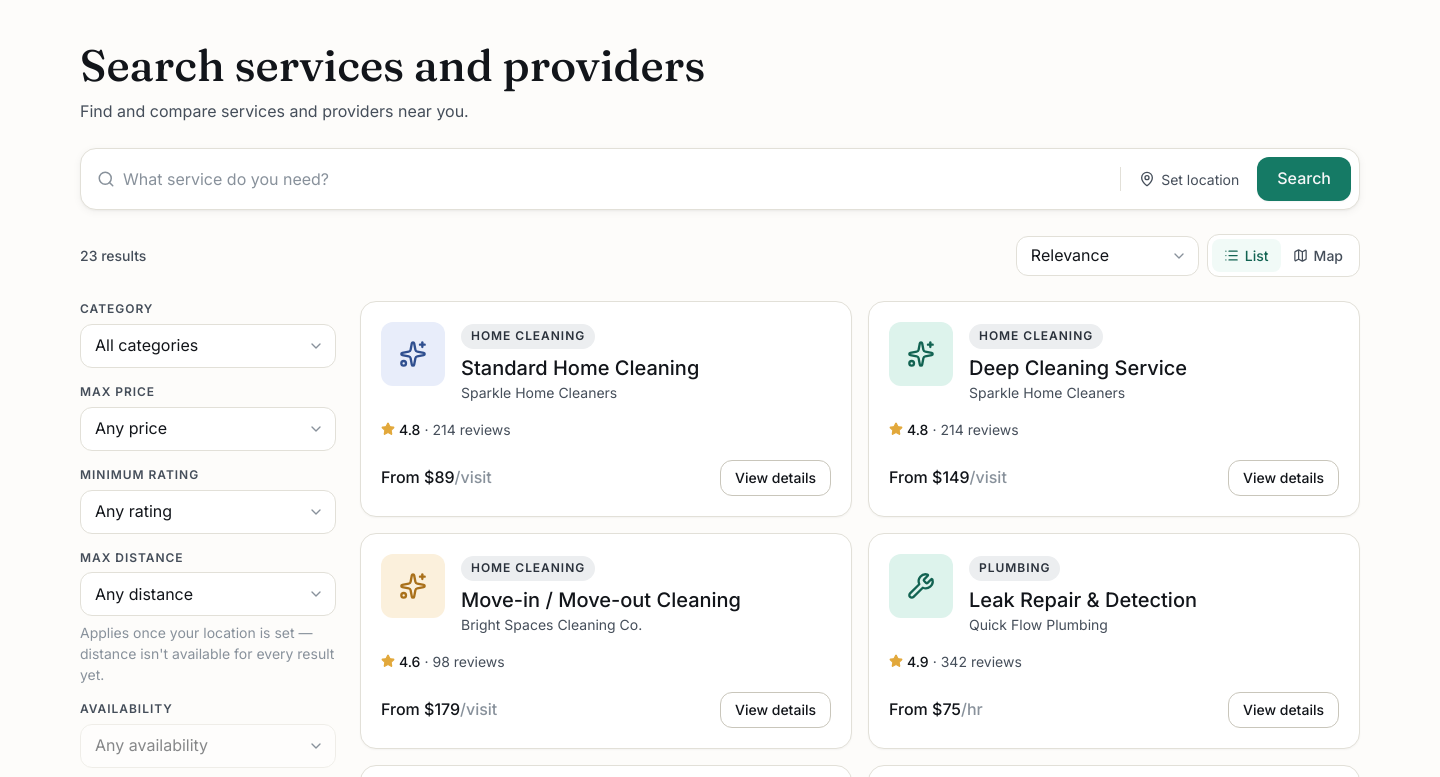
Test: SearchPageClient › updates results as the user types a new search query
Expected: the text "23 results" is shown, [80,245,146,266]
Type "haircut" into the field with placeholder "What service do you need?" at (240, 179), box [123,157,357,201]
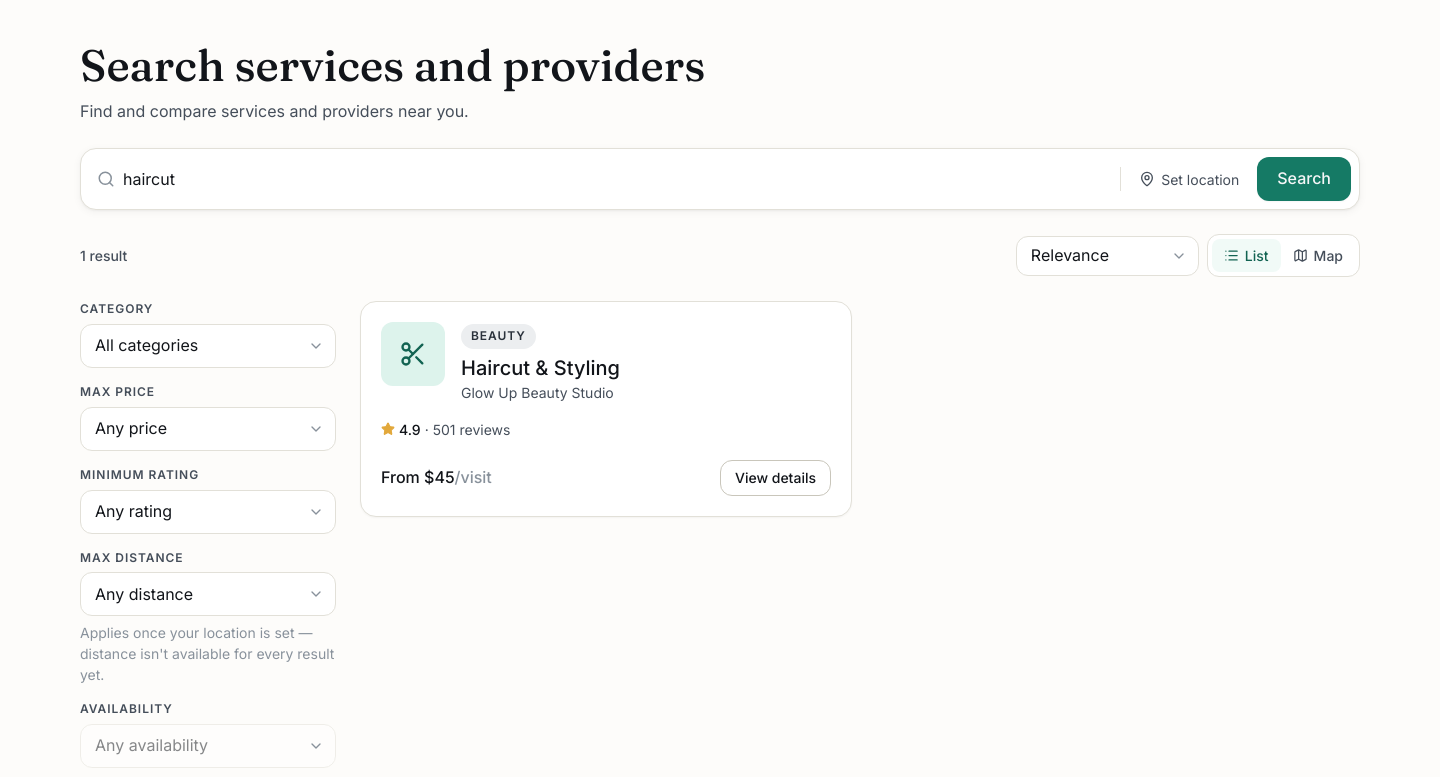
Expected: the text "Haircut & Styling" is shown, [461,355,620,382]
Expected: the text "Quick Flow Plumbing" is gone
